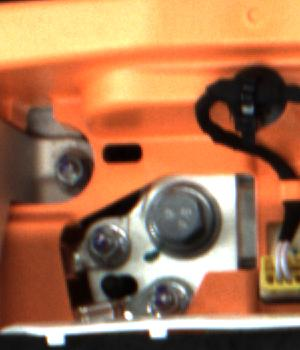nut_b: (144, 176, 227, 259)
